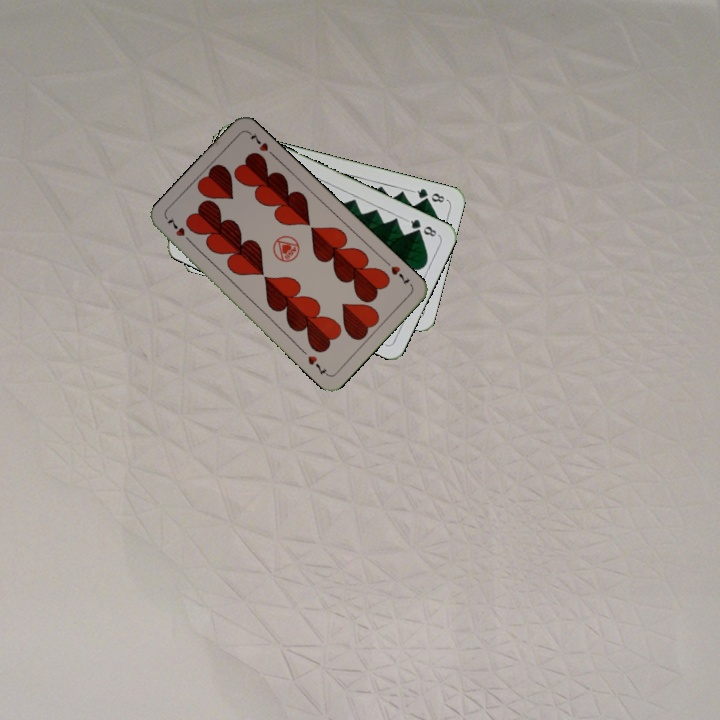G8: (403, 215, 441, 239), (409, 184, 449, 205)
H7: (163, 214, 195, 246), (382, 257, 412, 288)
